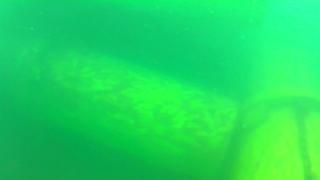pipe: (1, 30, 238, 179), (1, 1, 264, 93), (230, 89, 320, 180)
